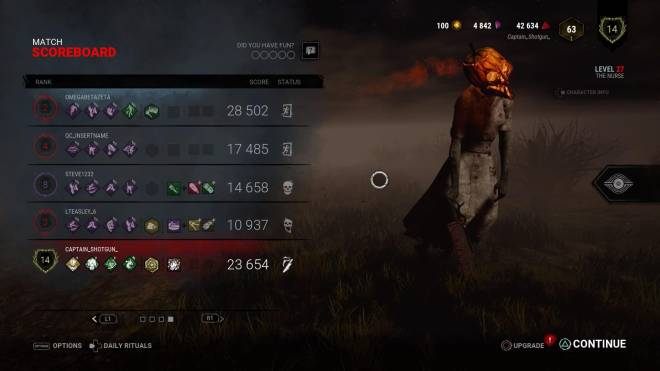adrenaline: (102, 102, 119, 118)
bbq_and_chilli: (64, 255, 81, 271)
bloodhound: (122, 255, 139, 271)
borrowed_time: (102, 140, 119, 156)
dead_hard: (64, 102, 81, 118)
decisive_strike: (102, 179, 119, 195), (83, 216, 100, 232)
hex:ruin: (101, 255, 118, 271)
kindred: (64, 140, 81, 156)
lithe: (83, 179, 100, 195), (65, 217, 82, 233)
rancor: (83, 255, 100, 271)
self_care: (83, 102, 100, 118), (65, 179, 82, 195), (122, 216, 139, 232)
spine_chill: (83, 140, 100, 156), (121, 179, 138, 195)
unbreakable: (104, 217, 121, 233)
urban_evasion: (121, 140, 138, 156)
were_gonna_live_forever: (121, 102, 138, 118)
